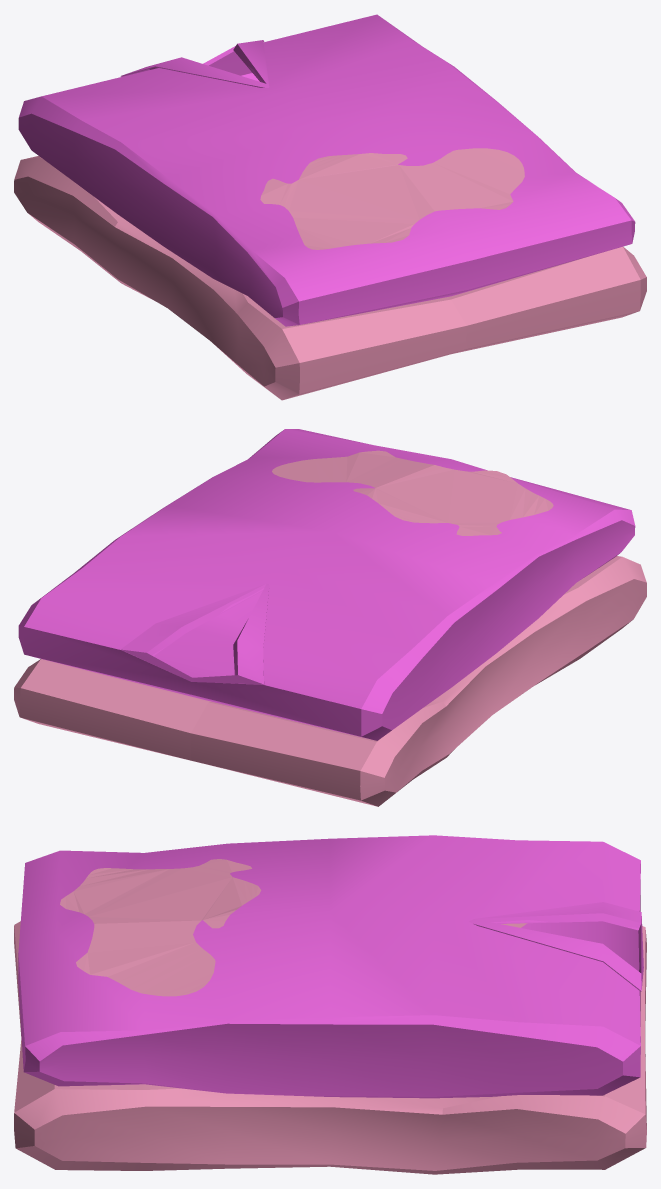
The model's file is NotanClothes.fbx.
3 renders of one model, top to bottom at view 1: azimuth 30°, elevation 25°; view 2: azimuth 150°, elevation 25°; view 3: azimuth 270°, elevation 25°, orthographic. The views are drawn at different scales.
Visible parts, largest first — view 1: StainedClothes; view 2: StainedClothes; view 3: StainedClothes.
Boxes of the visible parts, <box> form: StainedClothes: <box>14,14,646,400</box>; StainedClothes: <box>14,429,646,806</box>; StainedClothes: <box>14,835,646,1174</box>.
Bounding box in the file's own units: 468 × 193 × 612.
